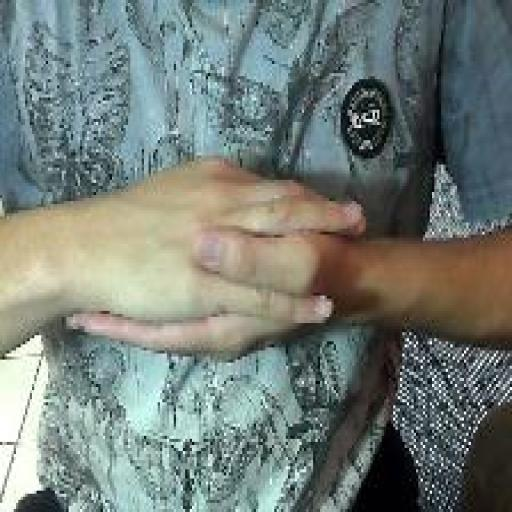Saru -monkey-: (60, 148, 372, 370)
